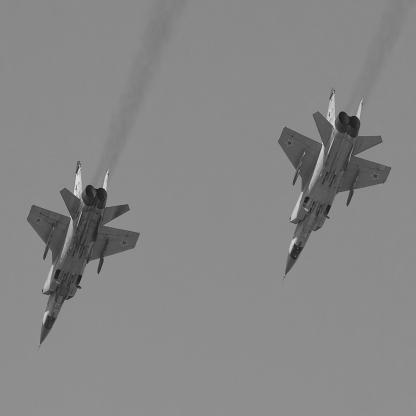Mig31: (279, 88, 393, 283), (27, 162, 141, 353)
